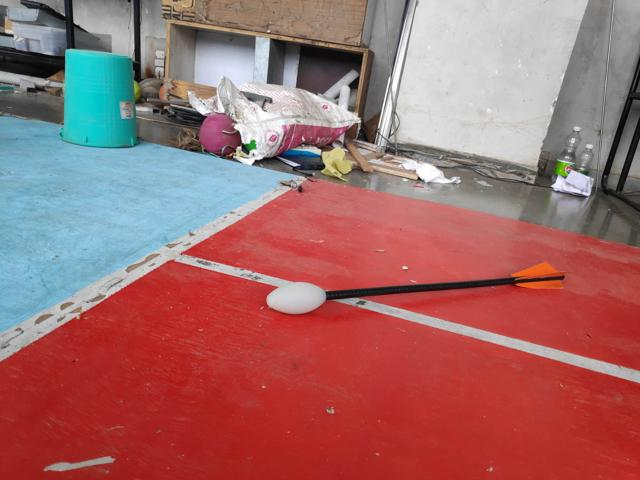Head: (265, 279, 330, 316)
Tail: (506, 259, 567, 295)
